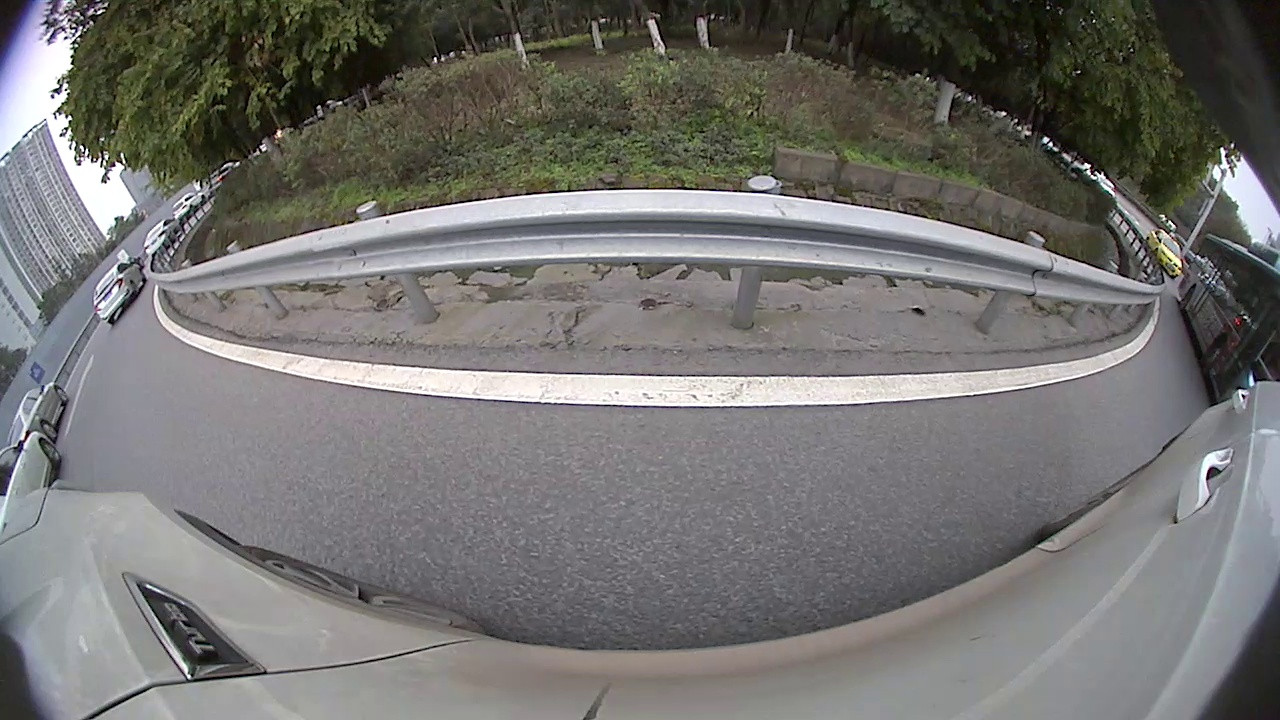bus: (1178, 234, 1279, 401)
car: (1, 431, 63, 515), (5, 381, 69, 447), (90, 257, 147, 326), (1145, 227, 1185, 278)
front: (1199, 339, 1227, 369), (39, 438, 64, 465), (53, 386, 70, 405)
rear: (40, 419, 60, 439)
